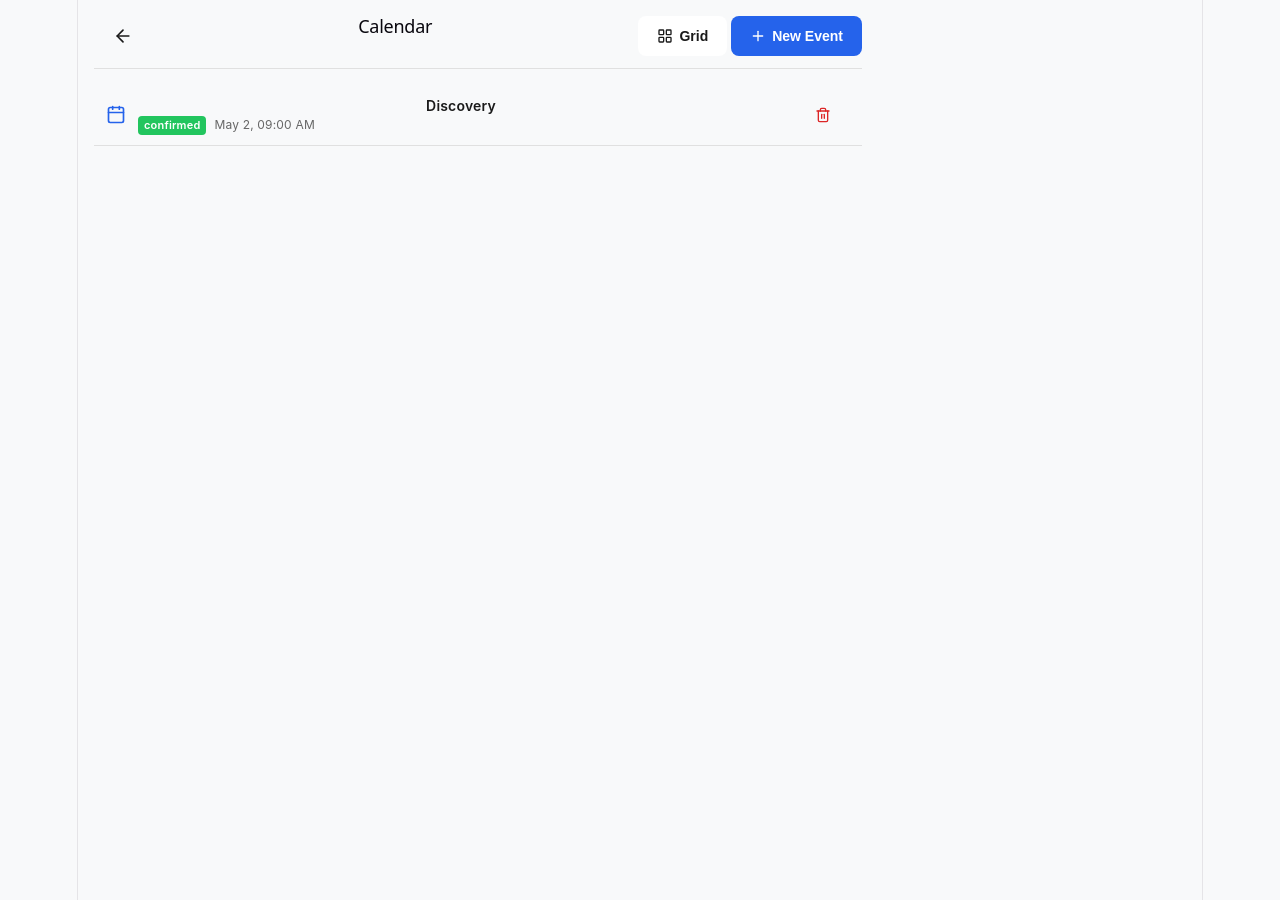
Scenario: CalendarManager › shows shareable URL and copy button when public_enabled is true
Click the text "Discovery".
click(461, 106)  # box [426,97,496,114]
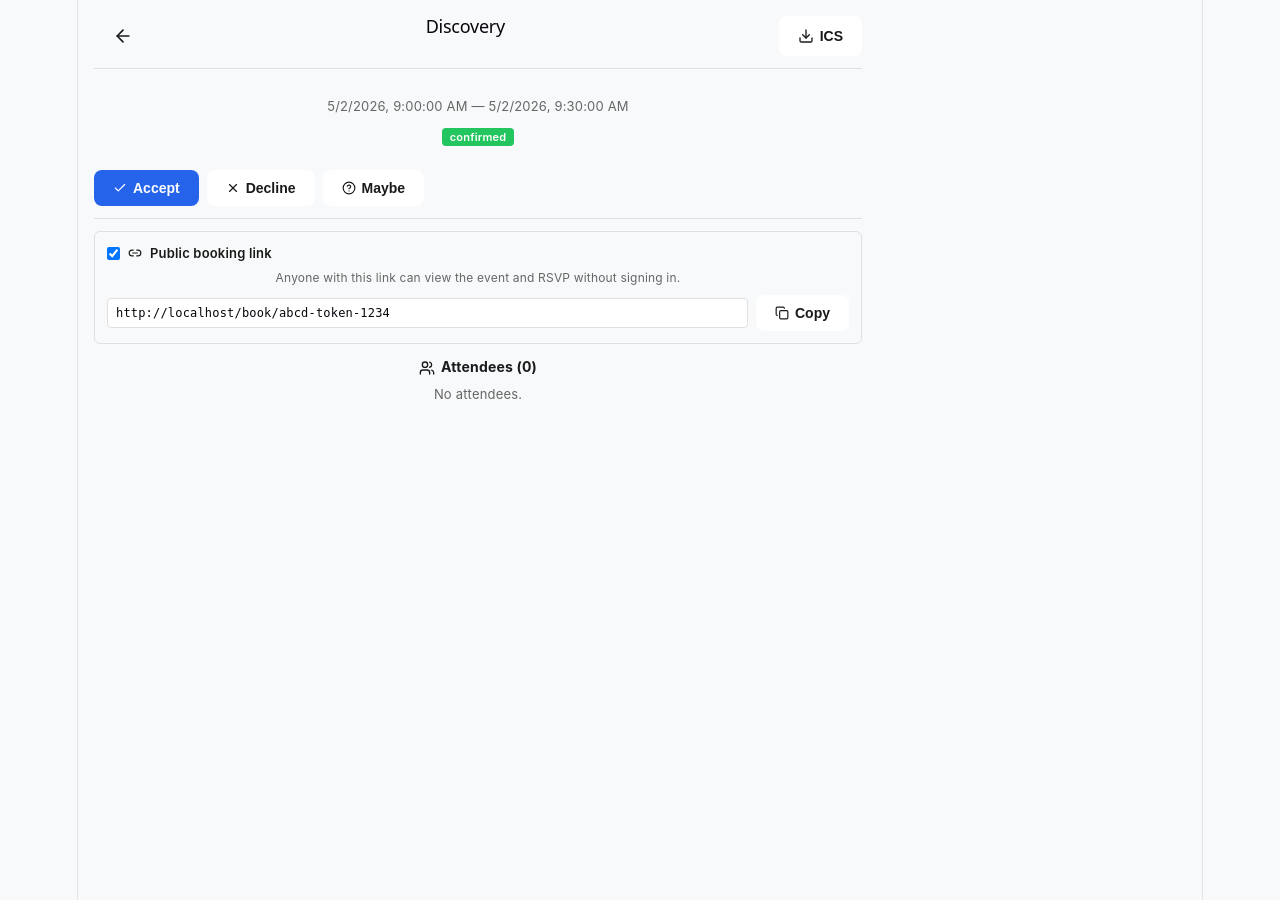
Expected: the text "http://localhost/book/abcd-token-1234" is shown, [107,298,748,328]
Expected: the text with test id "public-share-url" shows "/book/abcd-token-1234", [116,306,390,320]
Expected: the button with test id "public-share-copy" is shown, [756,295,849,331]
